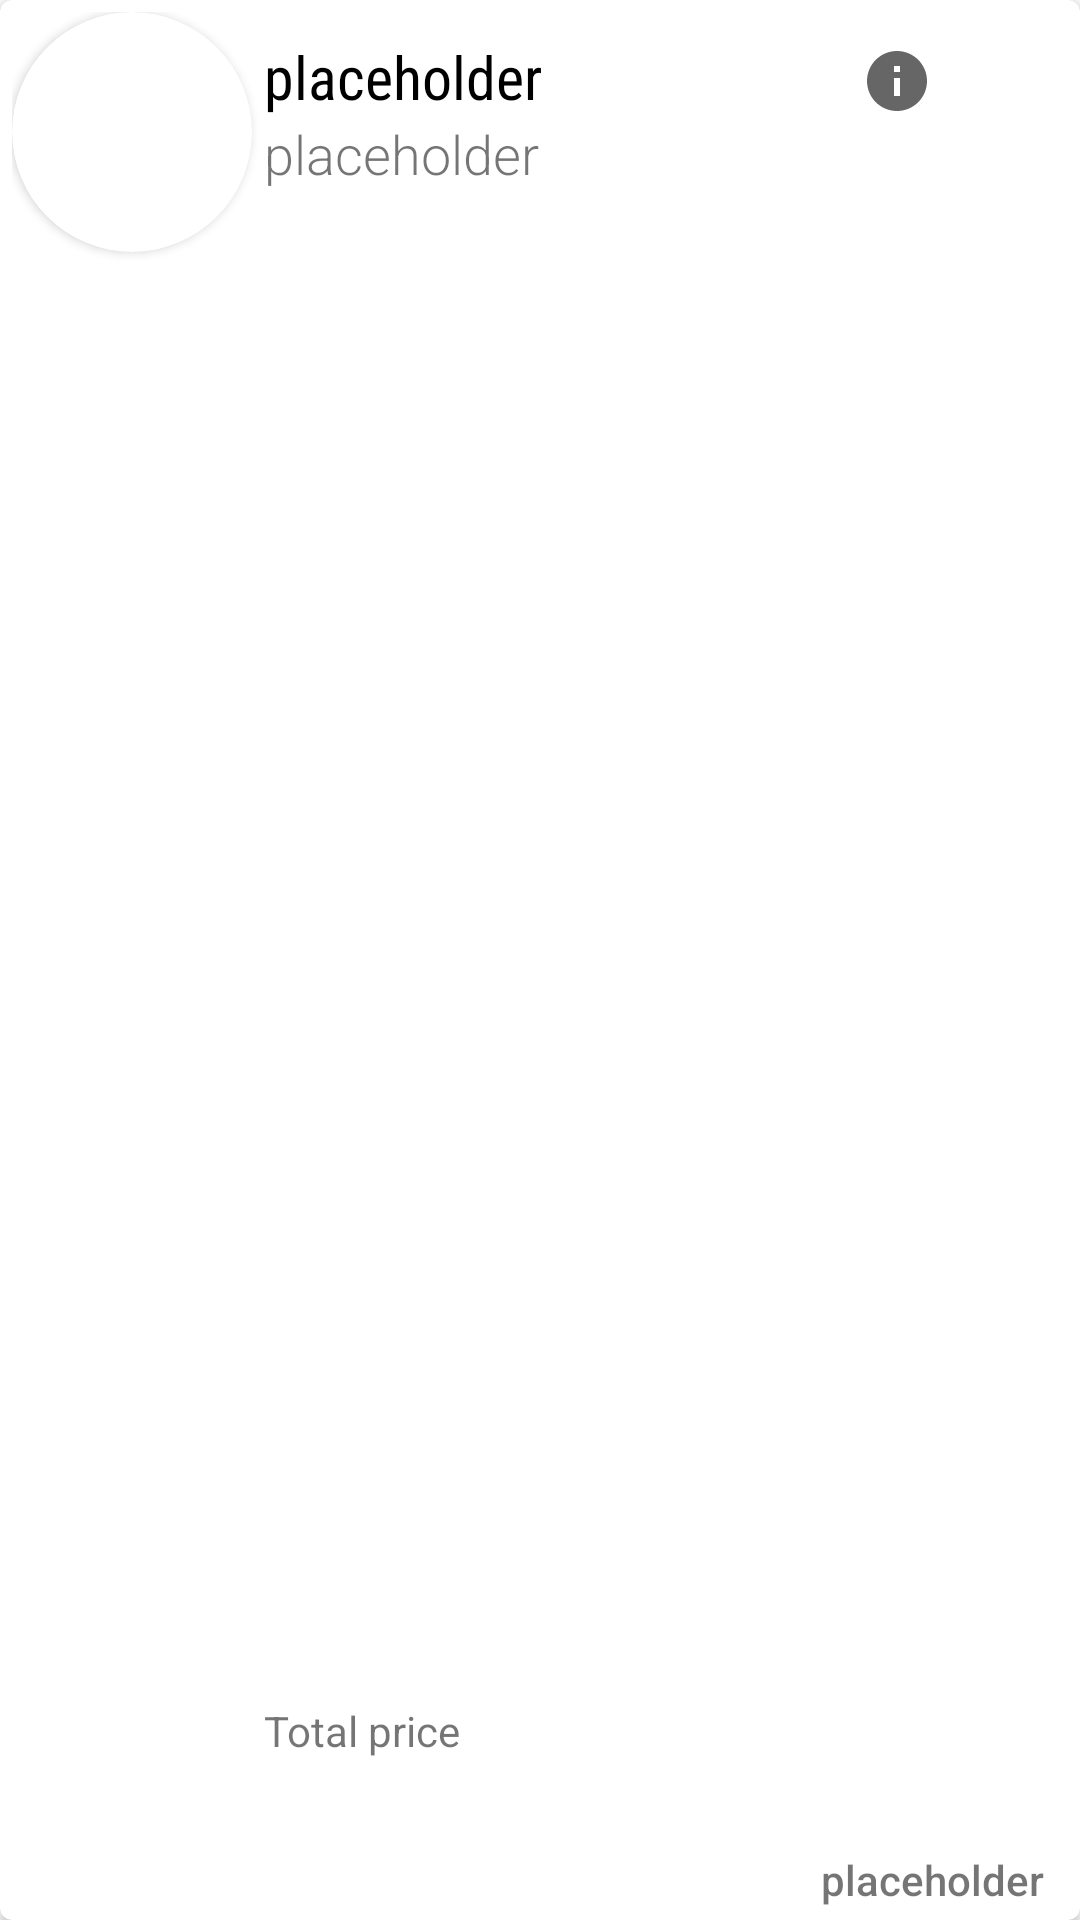

Locate icon controls on the screen. Image size 1080*1920, boxes as (x1, y1, x2, y2).
clinic info button image: (867, 51, 927, 111)
